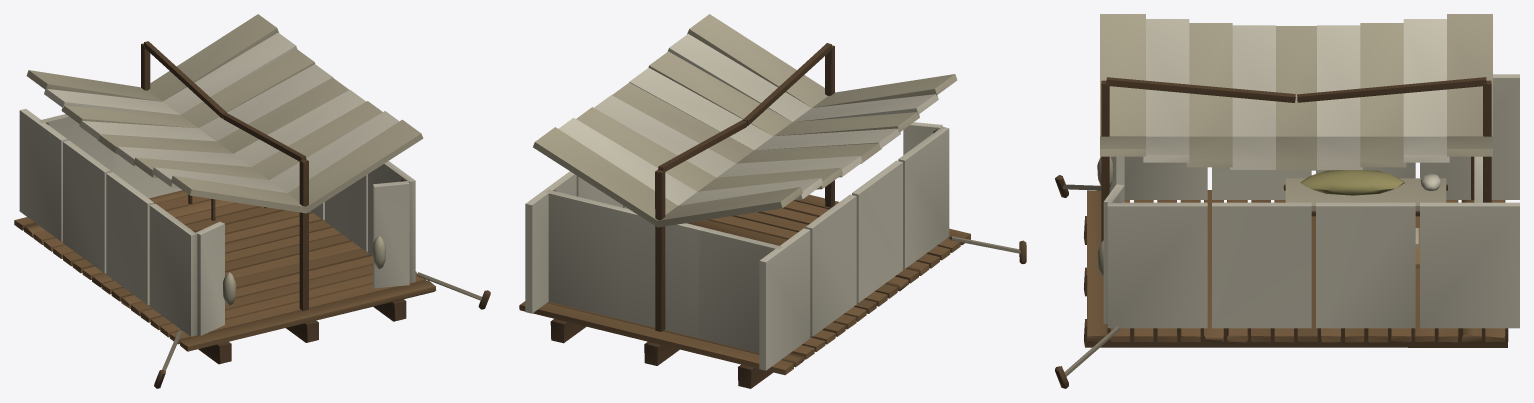
The model's file is survey_tent_a_lod2.glb.
3 views of the same model, side by side, from view 1: azimuth 30°, elevation 25°; view 2: azimuth 150°, elevation 25°; view 3: azimuth 270°, elevation 25° (orthographic). The views are drawn at different scales.
Visible parts, largest first — view 1: Surface.001; view 2: Surface.001; view 3: Surface.001.
Boxes of the visible parts, left/top/right/bottom form: Surface.001: left=14, top=14, right=490, bottom=388; Surface.001: left=519, top=14, right=1026, bottom=388; Surface.001: left=1055, top=14, right=1519, bottom=388.
Bounding box in the file's own units: 8.02 × 4.1 × 8.04.
